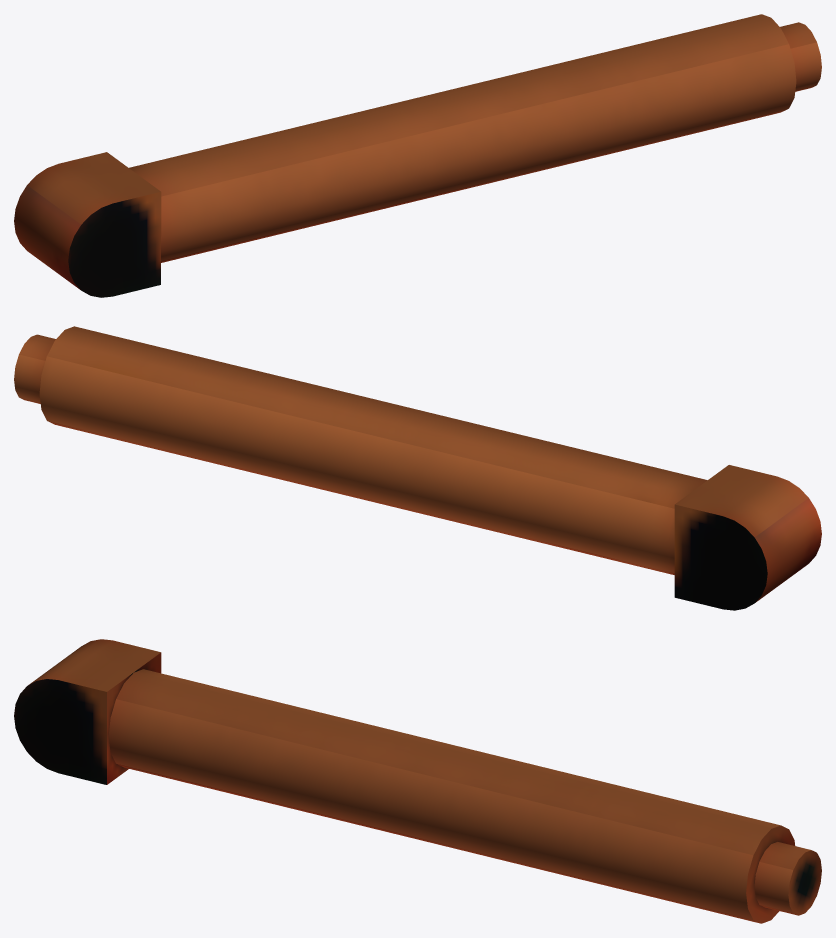
File: zx120-arm-cyl1.dae
3 renders of one model, top to bottom at view 1: azimuth 30°, elevation 25°; view 2: azimuth 150°, elevation 25°; view 3: azimuth 330°, elevation 25°, orthographic.
Parts seen in each view (by area): view 1: bm-R-Cyl; view 2: bm-R-Cyl; view 3: bm-R-Cyl.
Part boxes in pixels (x1,y1,x2,y2): bm-R-Cyl: (14,14,821,297); bm-R-Cyl: (14,326,821,610); bm-R-Cyl: (14,639,821,923).
Size of the model in its own units: 1.58 by 0.194 by 0.1838.
Materials: 1 (1 with a texture image).
